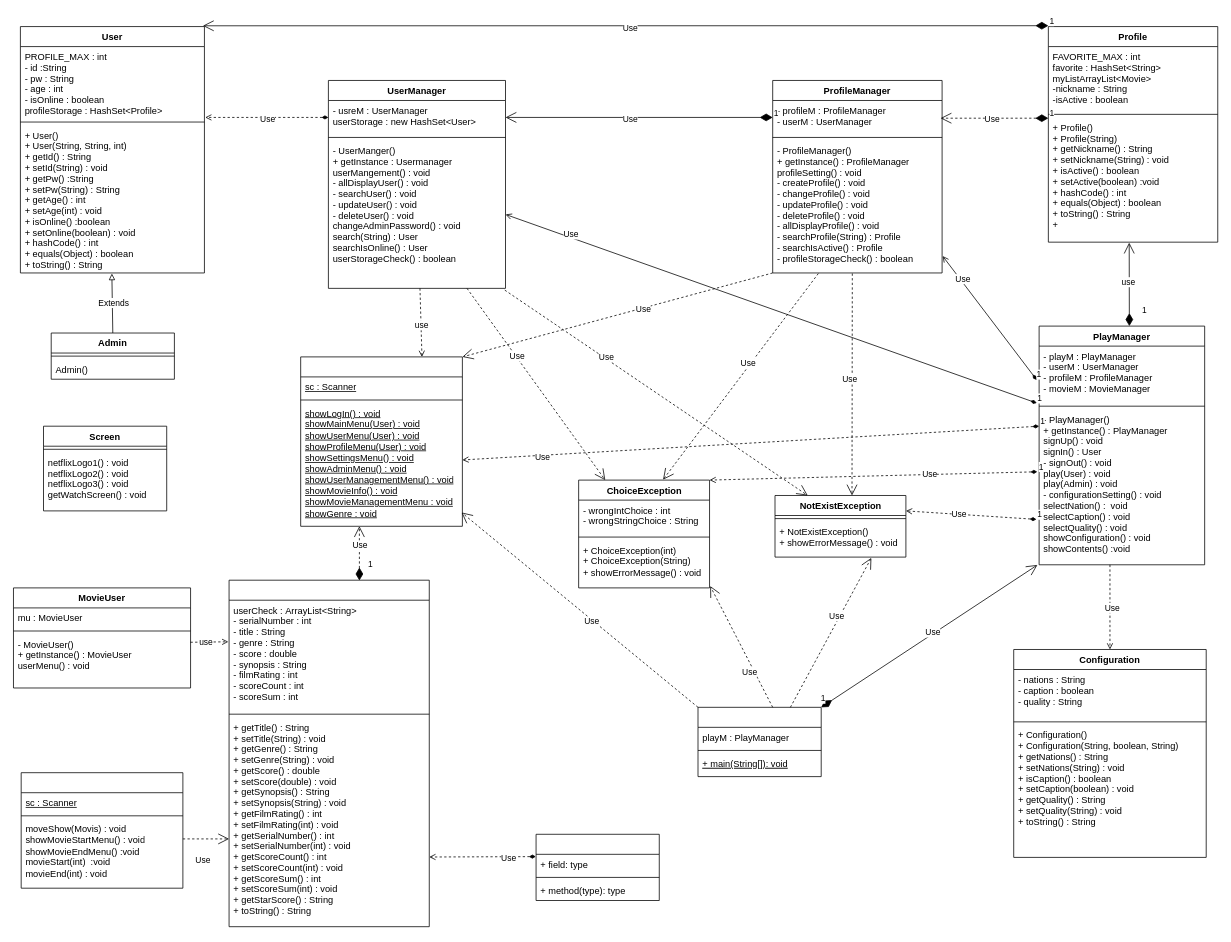
This 1231x942 diagram has some shape labels left out. Here are the shapes that lost their labels. From the top down, the box of each, then its label:
(300, 356, 462, 526): MenuViewer
(228, 579, 429, 927): Move
(697, 707, 821, 777): Dasutflix
(20, 772, 183, 888): MovieViewer
(535, 834, 659, 901): MovieManager
